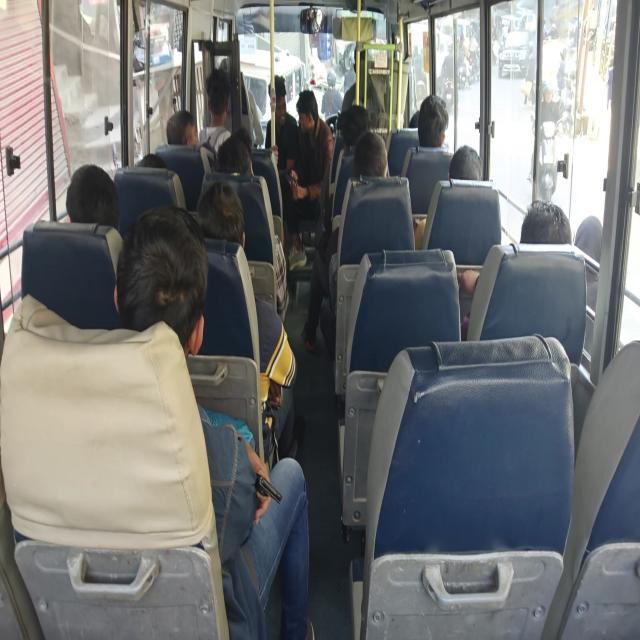person: (112, 218, 204, 367), (58, 154, 119, 250), (517, 194, 571, 255), (189, 182, 234, 242), (349, 140, 400, 188), (457, 149, 497, 199), (419, 105, 453, 161), (205, 75, 234, 130), (216, 140, 249, 176), (344, 112, 370, 156), (170, 116, 205, 148), (235, 121, 260, 157), (267, 83, 285, 128), (296, 91, 317, 129), (136, 150, 163, 174), (409, 111, 423, 128)
